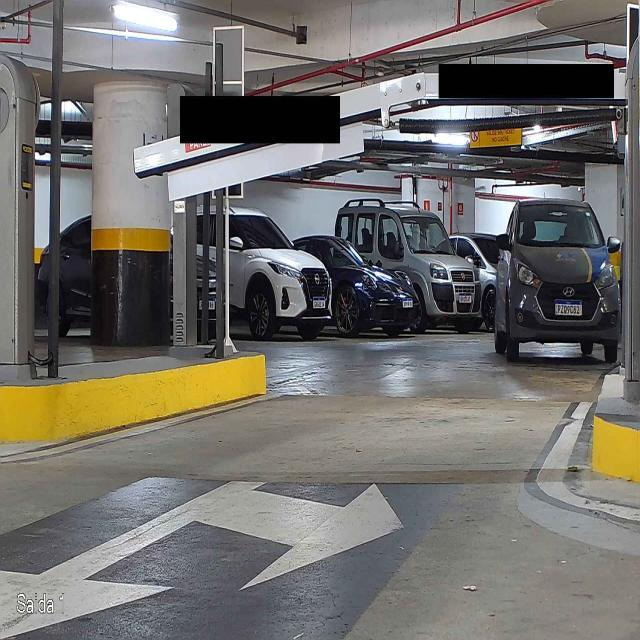mercosul_plate: (554, 298, 583, 316)
